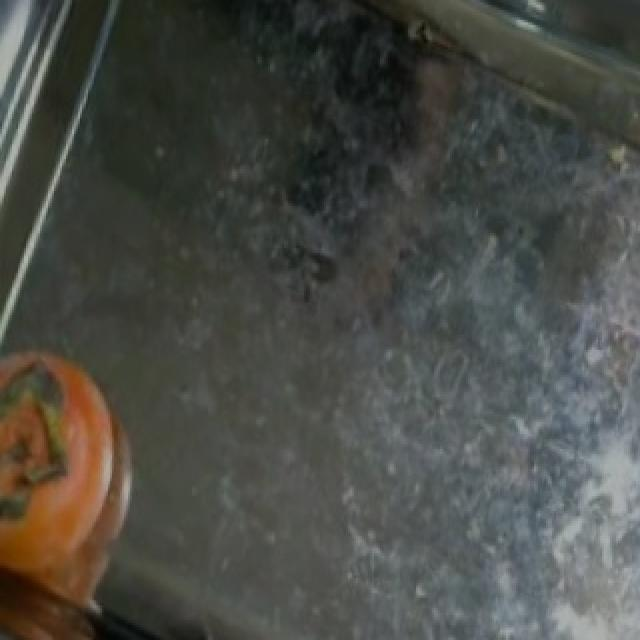Fruit: (0, 320, 150, 593), (2, 337, 74, 536)
